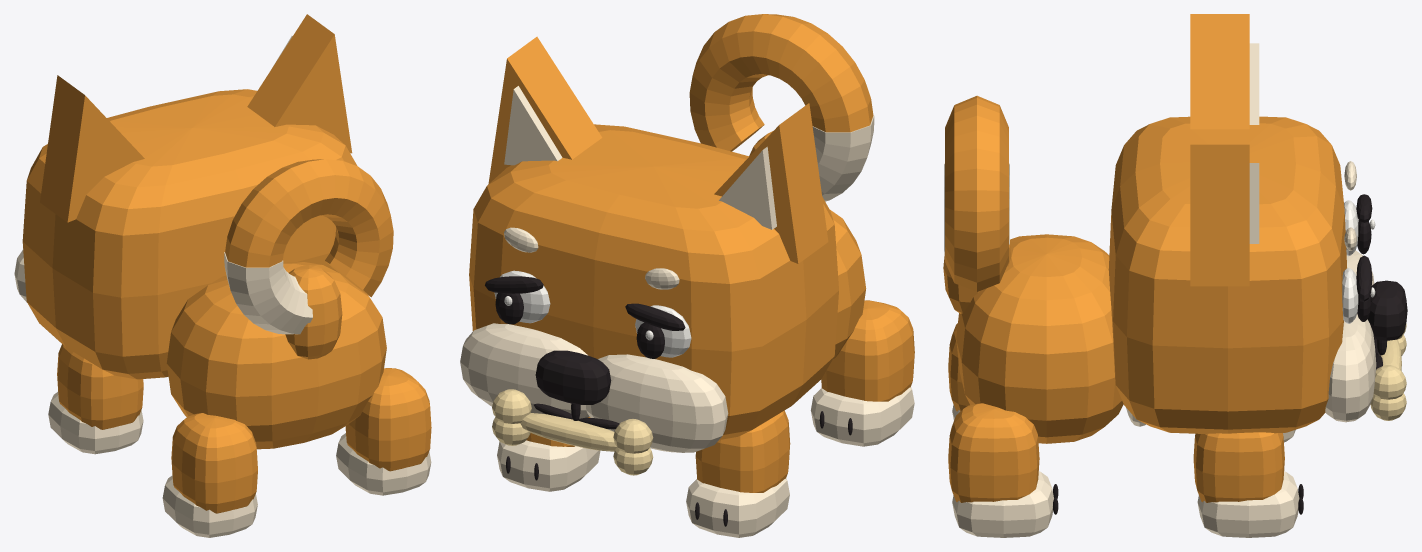
File: Shiba_Rounded.obj
3 renders of one model, left to right at view 1: azimuth 30°, elevation 25°; view 2: azimuth 150°, elevation 25°; view 3: azimuth 270°, elevation 25°, orthographic. The views are drawn at different scales.
Visible parts, largest first — view 1: BigHead, ShortTorso, TailCurl, EarL, EarR, LegBL_Leg, LegBR_Leg, LegFL_Leg, TailCreamTip, TailRoot, LegFL_Paw, LegBL_Paw (+1 smaller); view 2: BigHead, TailCurl, CheekL, EarL, LegBL_Leg, EarR, CheekR, LegFL_Leg, LegBL_Paw, LegFL_Paw, LegFR_Paw, BigNose (+17 smaller); view 3: BigHead, ShortTorso, TailCurl, EarR, LegBR_Leg, EarL, LegFR_Leg, CheekR, LegFR_Paw, LegBR_Paw, BigNose, BoneKnuckle1_1 (+7 smaller).
Part boxes in pixels (left/top/right/bottom): BigHead: left=22, top=89, right=357, bottom=379; ShortTorso: left=166, top=262, right=386, bottom=449; TailCurl: left=225, top=159, right=393, bottom=297; EarL: left=40, top=75, right=144, bottom=222; EarR: left=247, top=14, right=352, bottom=153; LegBL_Leg: left=171, top=413, right=257, bottom=513; LegBR_Leg: left=345, top=368, right=431, bottom=471; LegFL_Leg: left=57, top=344, right=143, bottom=429; TailCreamTip: left=224, top=252, right=312, bottom=334; TailRoot: left=285, top=265, right=342, bottom=359; LegFL_Paw: left=48, top=392, right=143, bottom=454; LegBL_Paw: left=162, top=475, right=257, bottom=537; BigHead: left=469, top=124, right=838, bottom=439; TailCurl: left=689, top=14, right=873, bottom=151; CheekL: left=586, top=354, right=728, bottom=452; EarL: left=714, top=103, right=828, bottom=263; LegBL_Leg: left=821, top=300, right=914, bottom=401; EarR: left=488, top=36, right=602, bottom=183; CheekR: left=460, top=323, right=589, bottom=418; LegFL_Leg: left=695, top=410, right=790, bottom=492; LegBL_Paw: left=810, top=387, right=914, bottom=446; LegFL_Paw: left=686, top=478, right=789, bottom=537; LegFR_Paw: left=497, top=440, right=600, bottom=491; BigNose: left=535, top=350, right=611, bottom=404; BigHead: left=1108, top=116, right=1346, bottom=433; ShortTorso: left=956, top=234, right=1123, bottom=443; TailCurl: left=945, top=95, right=1008, bottom=291; EarR: left=1190, top=144, right=1249, bottom=286; LegBR_Leg: left=948, top=403, right=1039, bottom=502; EarL: left=1190, top=14, right=1249, bottom=129; LegFR_Leg: left=1193, top=432, right=1284, bottom=502; CheekR: left=1325, top=314, right=1376, bottom=422; LegFR_Paw: left=1197, top=471, right=1299, bottom=537; LegBR_Paw: left=952, top=471, right=1053, bottom=537; BigNose: left=1367, top=280, right=1407, bottom=340; BoneKnuckle1_1: left=1373, top=365, right=1406, bottom=399.
Size of the model in its own units: 2.2 by 2.78 by 2.89.
